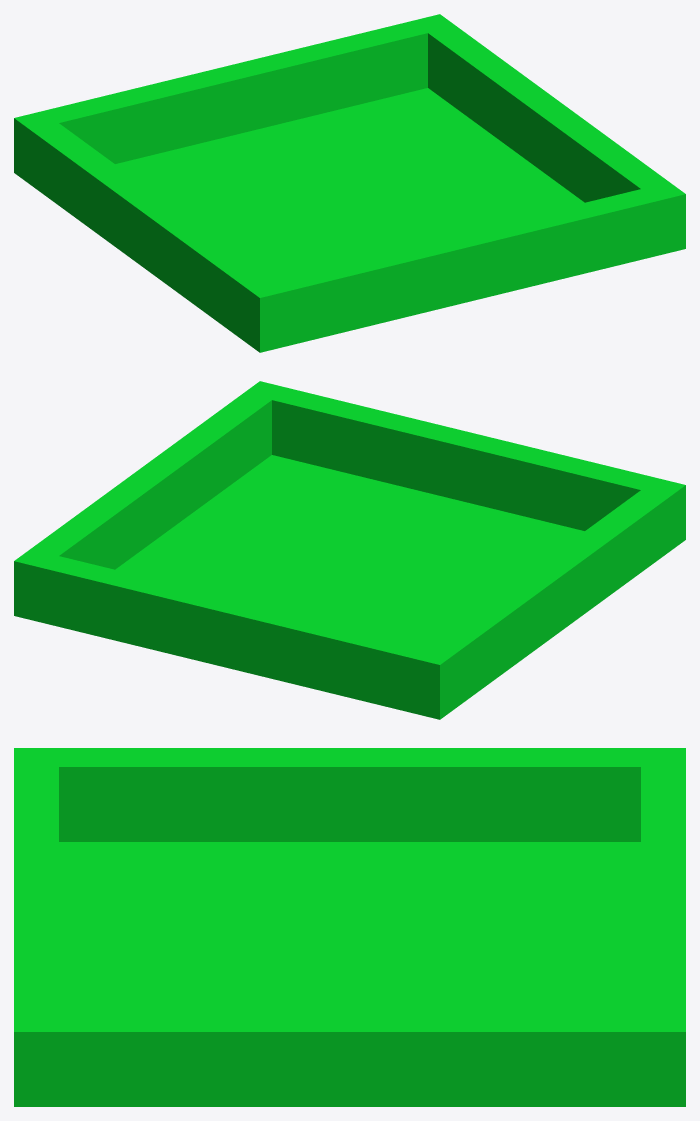
Rendered from Room2x2.glb.
3 renders of one model, top to bottom at view 1: azimuth 30°, elevation 25°; view 2: azimuth 150°, elevation 25°; view 3: azimuth 270°, elevation 25°, orthographic. The views are drawn at different scales.
Parts seen in each view (by area): view 1: Plane; view 2: Plane; view 3: Plane.
Part boxes in pixels (x1,y1,x2,y2): Plane: [14, 14, 685, 352]; Plane: [14, 381, 685, 719]; Plane: [14, 748, 685, 1106].
Bounding box in the file's own units: 2 × 0.2458 × 2.
